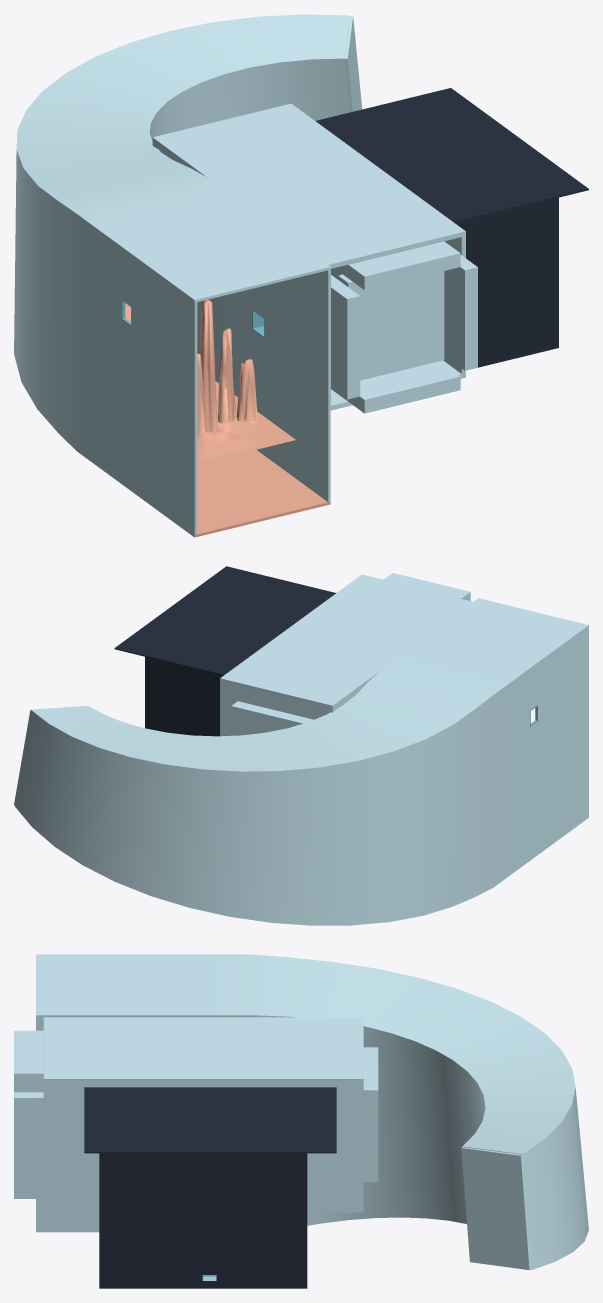
3 renders of one model, top to bottom at view 1: azimuth 30°, elevation 25°; view 2: azimuth 150°, elevation 25°; view 3: azimuth 270°, elevation 25°, orthographic. The views are drawn at different scales.
Parts seen in each view (by area): view 1: 06_wall, 04_wall_out, 05_box_top, 05_Box, 04_wall_front, 06_rock, 04_wall_left, 04_wall_bottom, 04_wall_right, 04_wall_top, 06_rock_ground; view 2: 06_wall, 04_wall_out, 05_box_top, 05_Box, 04_wall_back, 04_wall_top; view 3: 06_wall, 04_wall_out, 05_Box, 05_box_top, 04_wall_left, 04_wall_back, 04_wall_top.
Part boxes in pixels (x1=…): 06_wall: x1=14, y1=14, x2=362, y2=537; 04_wall_out: x1=152, y1=103, x2=465, y2=410; 05_box_top: x1=315, y1=88, x2=588, y2=222; 05_Box: x1=455, y1=197, x2=558, y2=367; 04_wall_front: x1=338, y1=271, x2=444, y2=380; 06_rock: x1=197, y1=299, x2=258, y2=435; 04_wall_left: x1=331, y1=255, x2=477, y2=370; 04_wall_bottom: x1=331, y1=361, x2=460, y2=413; 04_wall_right: x1=331, y1=275, x2=360, y2=399; 04_wall_top: x1=334, y1=241, x2=460, y2=290; 06_rock_ground: x1=197, y1=381, x2=295, y2=463; 06_wall: x1=14, y1=598, x2=588, y2=925; 04_wall_out: x1=220, y1=574, x2=473, y2=736; 05_box_top: x1=114, y1=566, x2=335, y2=675; 05_Box: x1=145, y1=656, x2=222, y2=736; 04_wall_back: x1=231, y1=701, x2=313, y2=735; 04_wall_top: x1=383, y1=573, x2=470, y2=600; 06_wall: x1=36, y1=954, x2=588, y2=1270; 04_wall_out: x1=43, y1=1017, x2=363, y2=1212; 05_Box: x1=99, y1=1153, x2=307, y2=1288; 05_box_top: x1=84, y1=1087, x2=336, y2=1153; 04_wall_left: x1=14, y1=1092, x2=43, y2=1189; 04_wall_back: x1=363, y1=1047, x2=378, y2=1181; 04_wall_top: x1=14, y1=1030, x2=43, y2=1085.
Bounding box in the file's own units: 5035 × 2601 × 6241.
Materials: 20 (20 with a texture image).
